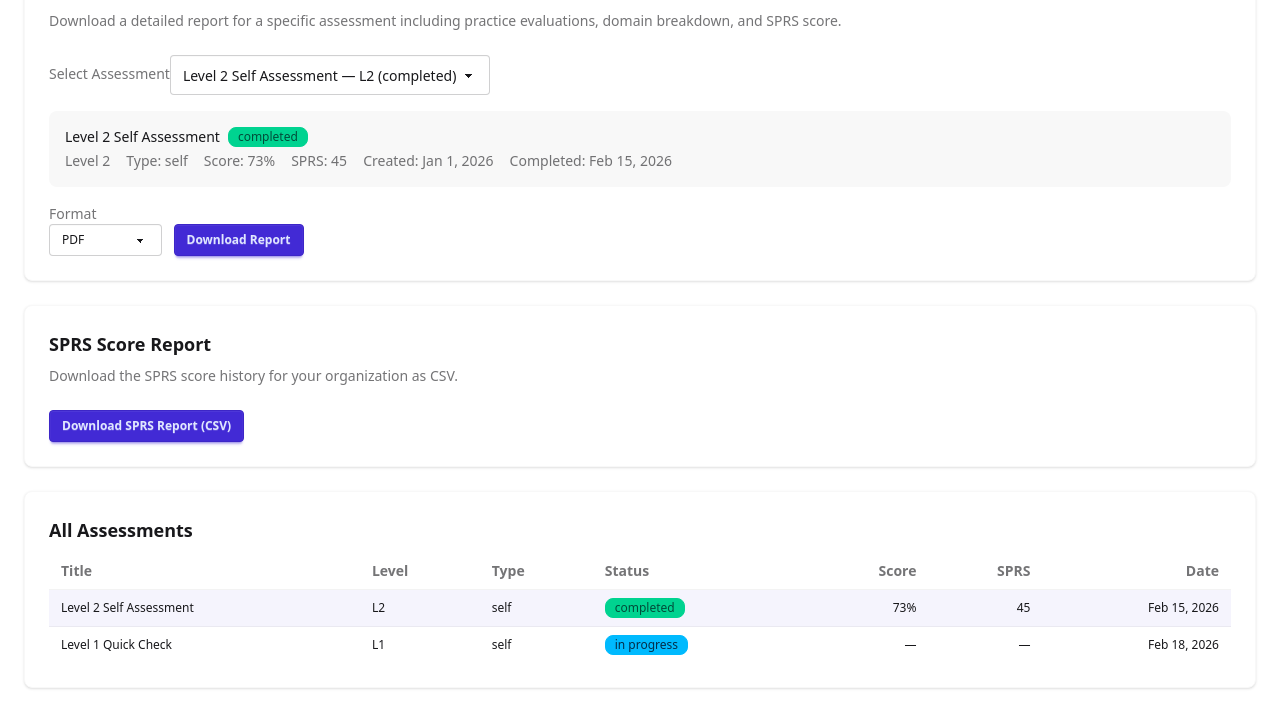
Test: ReportsPage › allows clicking table row to select assessment
(page scrolled)
# Click on the second assessment row
Step 1. Click the text "Level 1 Quick Check" → (116, 644), box x1=49 y1=627 x2=360 y2=663
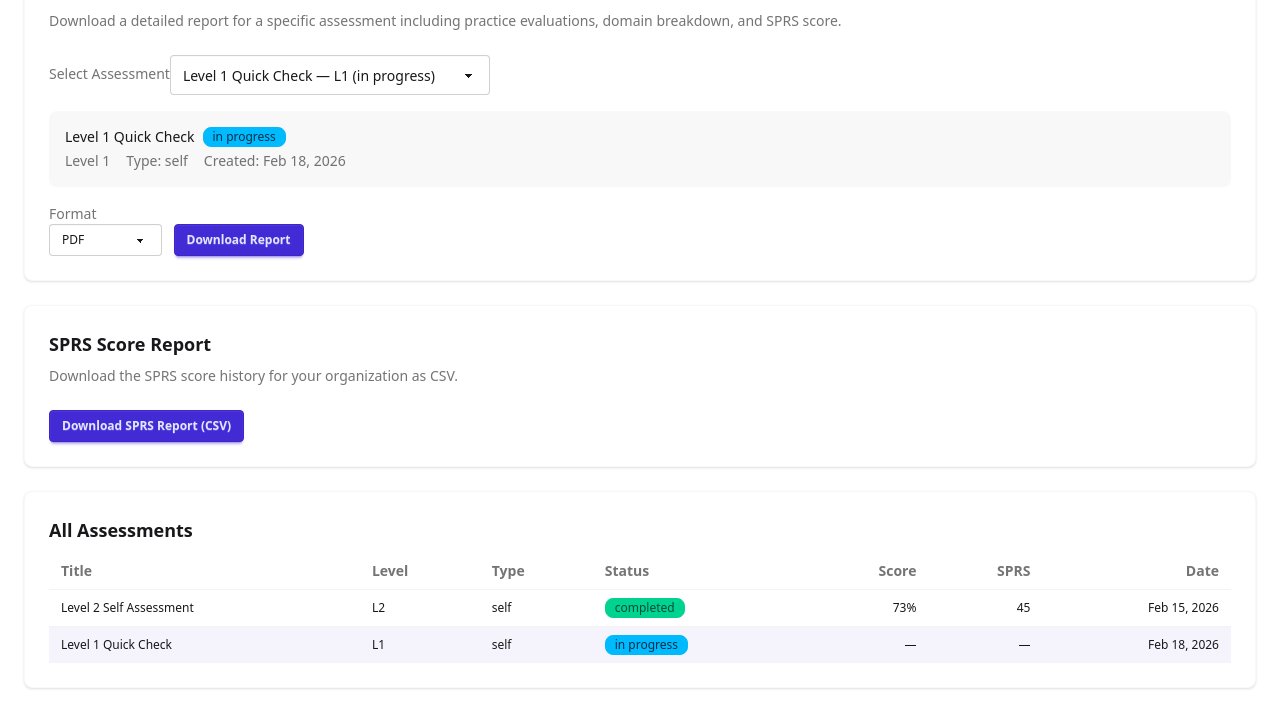
Expected: the text "Level 1" is shown, x1=65 y1=151 x2=110 y2=171
